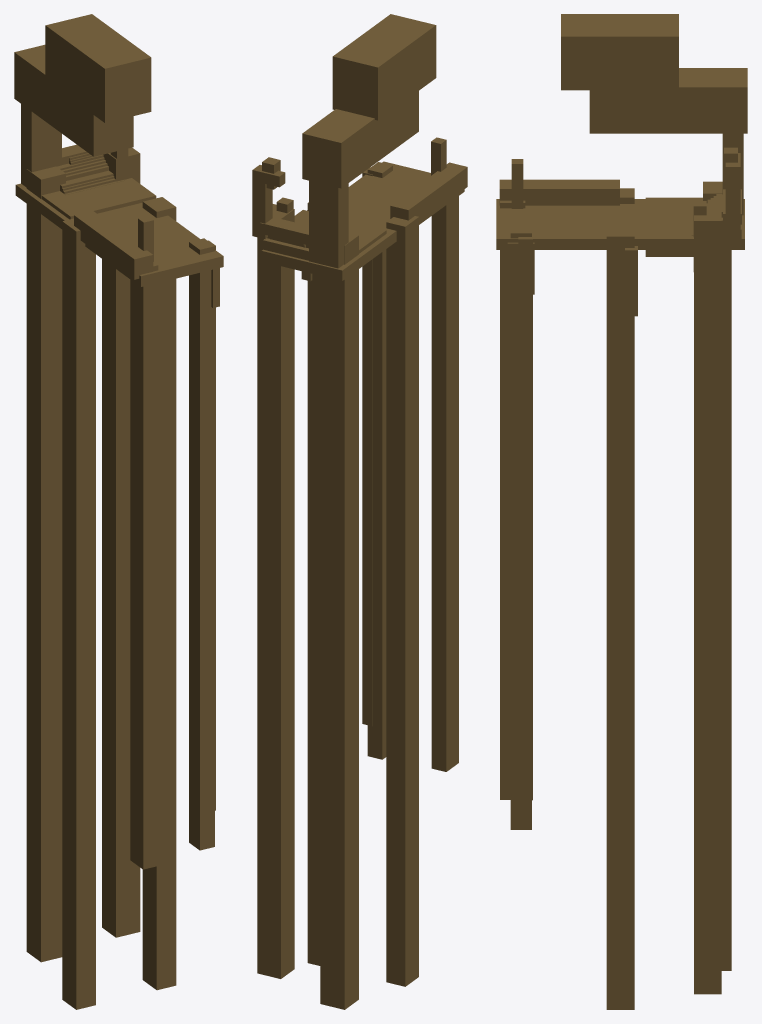
The model's file is Bridge.fbx.
3 renders of one model, left to right at view 1: azimuth 30°, elevation 25°; view 2: azimuth 150°, elevation 25°; view 3: azimuth 270°, elevation 25°, orthographic. The views are drawn at different scales.
Visible parts, largest first — view 1: polySurface10, polySurface8, polySurface1, polySurface12, polySurface19, polySurface2, pCube18, pCube17, pCube38, pCube28, pCube23, pCube15 (+3 smaller); view 2: polySurface10, polySurface1, polySurface8, polySurface50, polySurface12, pCube18, polySurface2, pCube17, polySurface19, polySurface54, pCube38, pCube15 (+6 smaller); view 3: polySurface12, polySurface1, pCube18, pCube17, polySurface54, polySurface10, pCube38, polySurface19, polySurface2, pCube23, pCube28, polySurface50 (+5 smaller).
Part boxes in pixels (left/top/right/bottom): polySurface10: left=26, top=166, right=65, bottom=962; polySurface8: left=62, top=218, right=95, bottom=1009; polySurface1: left=102, top=147, right=140, bottom=937; polySurface12: left=142, top=197, right=176, bottom=990; polySurface19: left=132, top=263, right=158, bottom=869; polySurface2: left=189, top=238, right=214, bottom=850; pCube18: left=45, top=14, right=151, bottom=122; pCube17: left=14, top=44, right=133, bottom=156; pCube38: left=15, top=183, right=223, bottom=286; pCube28: left=74, top=210, right=153, bottom=279; pCube23: left=41, top=178, right=156, bottom=219; pCube15: left=21, top=104, right=61, bottom=187; polySurface10: left=320, top=233, right=358, bottom=1009; polySurface1: left=257, top=204, right=294, bottom=978; polySurface8: left=386, top=216, right=418, bottom=986; polySurface50: left=431, top=197, right=456, bottom=771; polySurface12: left=307, top=202, right=320, bottom=965; pCube18: left=332, top=14, right=436, bottom=120; polySurface2: left=367, top=162, right=392, bottom=759; pCube17: left=302, top=91, right=418, bottom=188; polySurface19: left=448, top=196, right=458, bottom=770; polySurface54: left=362, top=167, right=372, bottom=726; pCube38: left=261, top=161, right=464, bottom=280; pCube15: left=309, top=180, right=348, bottom=268; polySurface12: left=606, top=227, right=634, bottom=1009; polySurface1: left=694, top=209, right=721, bottom=994; pCube18: left=561, top=14, right=678, bottom=90; pCube17: left=589, top=68, right=747, bottom=133; polySurface54: left=518, top=234, right=532, bottom=800; polySurface10: left=703, top=181, right=731, bottom=970; pCube38: left=496, top=199, right=744, bottom=249; polySurface19: left=500, top=200, right=511, bottom=799; polySurface2: left=510, top=226, right=531, bottom=829; pCube23: left=645, top=197, right=702, bottom=256; pCube28: left=499, top=179, right=619, bottom=205; polySurface50: left=504, top=200, right=525, bottom=799.
Size of the model in its own units: 2375 by 20134 by 4825.
